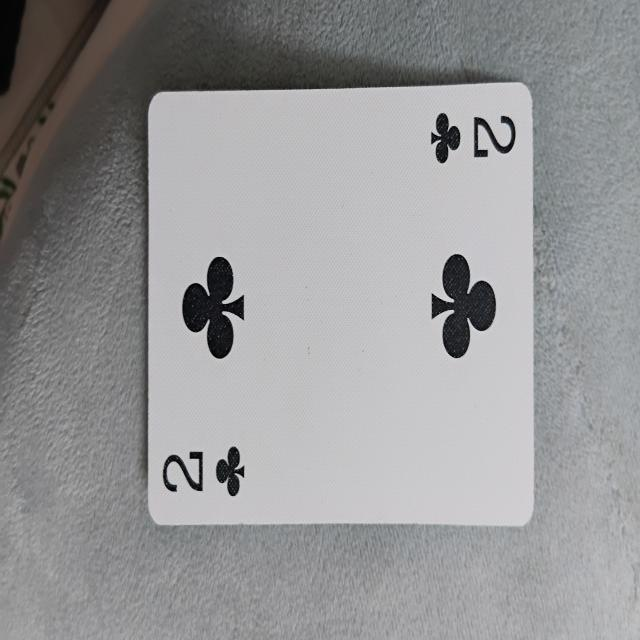2C: (147, 82, 536, 528)
